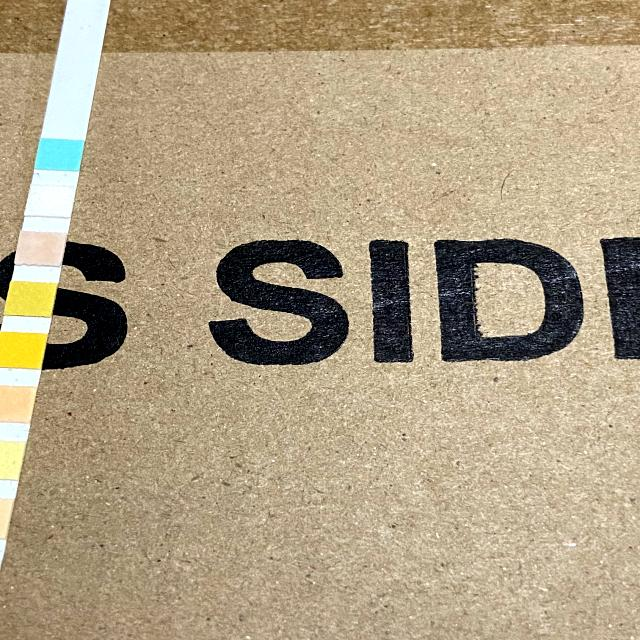Bilirubin: (33, 185, 70, 216)
Blood: (1, 333, 40, 368)
Glucose: (42, 139, 80, 170)
Ketone: (21, 232, 61, 265)
Protein: (0, 441, 18, 478)
SpGravity: (13, 282, 51, 315)
pH: (0, 386, 30, 422)
